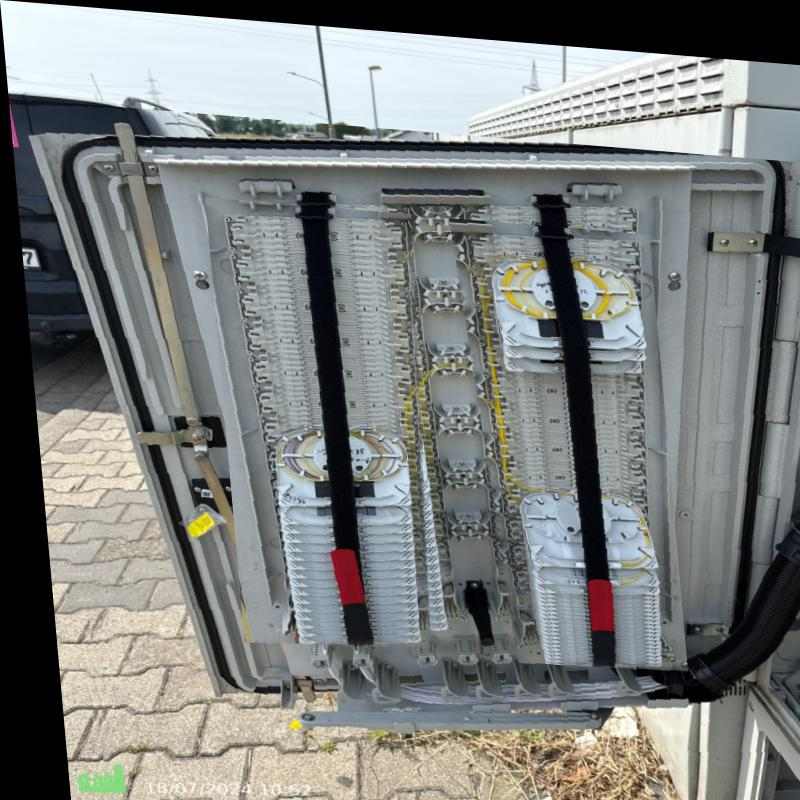NT-Gehause: (36, 135, 800, 800)
Spleiskassetten: (202, 196, 424, 642), (449, 211, 668, 662)
